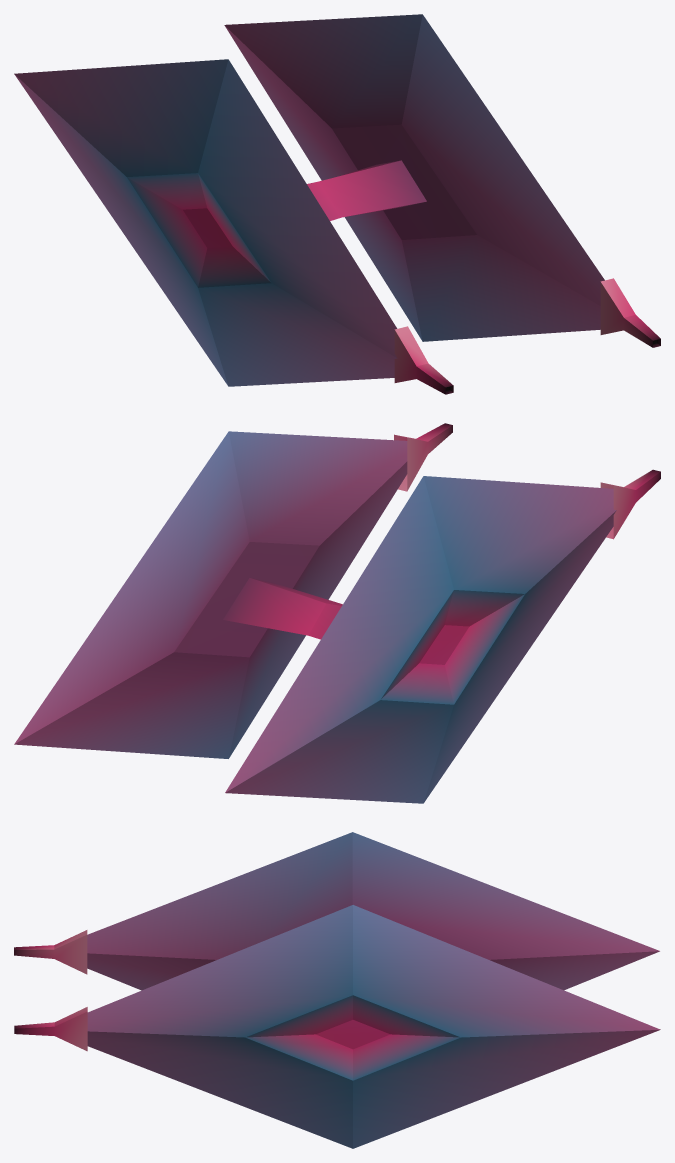
File: NaveTriangulo.fbx
The picture shows the model from 3 angles, top to bottom: view 1: azimuth 30°, elevation 25°; view 2: azimuth 150°, elevation 25°; view 3: azimuth 270°, elevation 25°; orthographic projection. The views are drawn at different scales.
Parts seen in each view (by area): view 1: EnemyShip.001; view 2: EnemyShip.001; view 3: EnemyShip.001.
Boxes of the visible parts, <box> form: EnemyShip.001: <box>14,14,660,394</box>; EnemyShip.001: <box>14,423,660,803</box>; EnemyShip.001: <box>14,832,660,1148</box>.
Size of the model in its own units: 762 by 941 by 2241.
